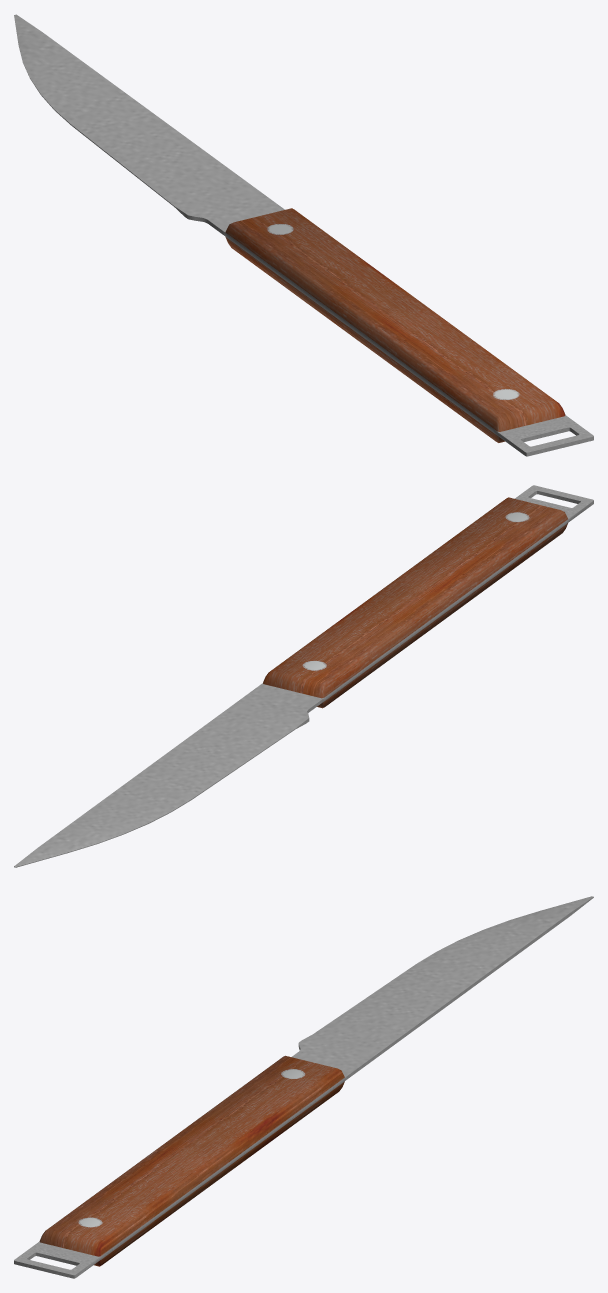
File: GardenKitchenTool01_5.FBX
The picture shows the model from 3 angles, top to bottom: view 1: azimuth 30°, elevation 25°; view 2: azimuth 150°, elevation 25°; view 3: azimuth 330°, elevation 25°; orthographic projection. The views are drawn at different scales.
Parts seen in each view (by area): view 1: GardenKitchenTool01_5; view 2: GardenKitchenTool01_5; view 3: GardenKitchenTool01_5.
Boxes of the visible parts, x1,y1,x2,y2 form: GardenKitchenTool01_5: (14,14,593,456); GardenKitchenTool01_5: (14,485,593,867); GardenKitchenTool01_5: (14,896,593,1278).
Size of what is drawn, in the model's own units: 0.0276 by 0.00905 by 0.3512.
